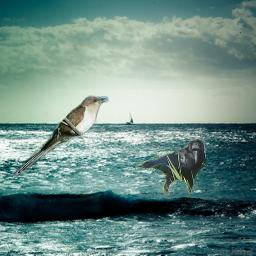Crow: (134, 139, 206, 196)
Cuckoo: (11, 95, 111, 180)
